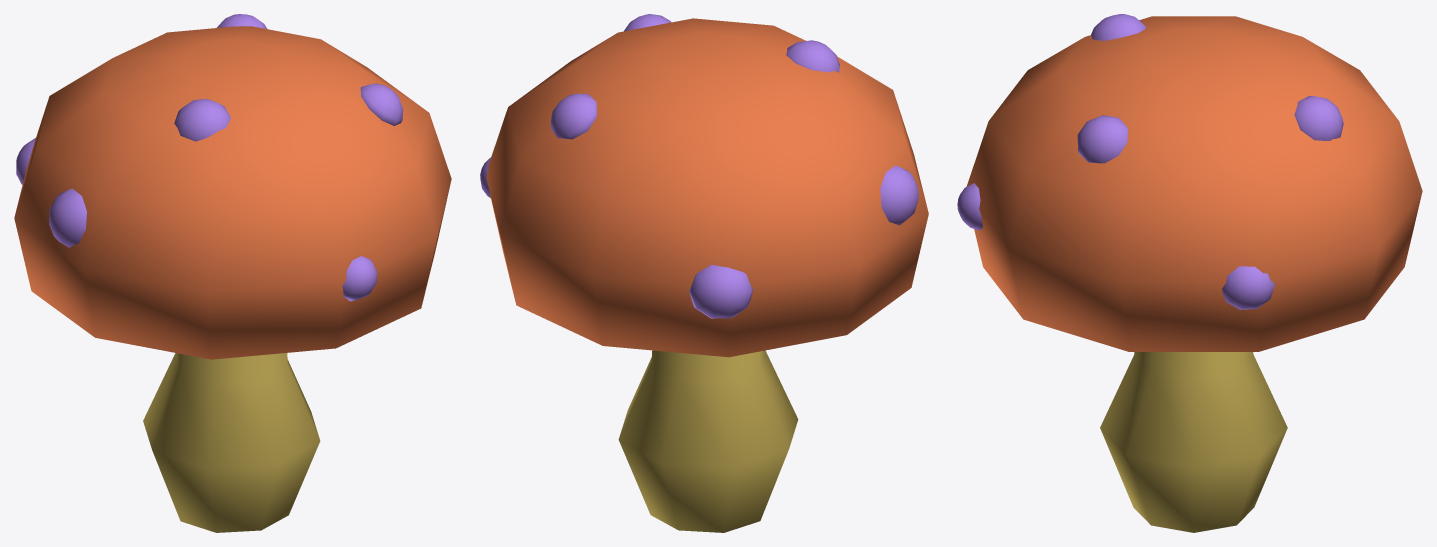
Rendered from Mushroom_FlyAgaric_Orange_2.fbx.
3 views of the same model, side by side, from view 1: azimuth 30°, elevation 25°; view 2: azimuth 150°, elevation 25°; view 3: azimuth 270°, elevation 25° (orthographic). The views are drawn at different scales.
Visible parts, largest first — view 1: Cylinder.542, Cylinder.544, Cylinder.543; view 2: Cylinder.542, Cylinder.544, Cylinder.543; view 3: Cylinder.542, Cylinder.544, Cylinder.543.
Boxes of the visible parts, x1,y1,x2,y2 form: Cylinder.542: (14, 26, 451, 359); Cylinder.544: (143, 353, 320, 532); Cylinder.543: (16, 14, 403, 301); Cylinder.542: (486, 18, 928, 357); Cylinder.544: (618, 350, 798, 532); Cylinder.543: (480, 14, 918, 318); Cylinder.542: (966, 16, 1422, 351); Cylinder.544: (1100, 352, 1287, 532); Cylinder.543: (957, 14, 1343, 309).
Size of the model in its own units: 81.42 by 90.44 by 83.11.
